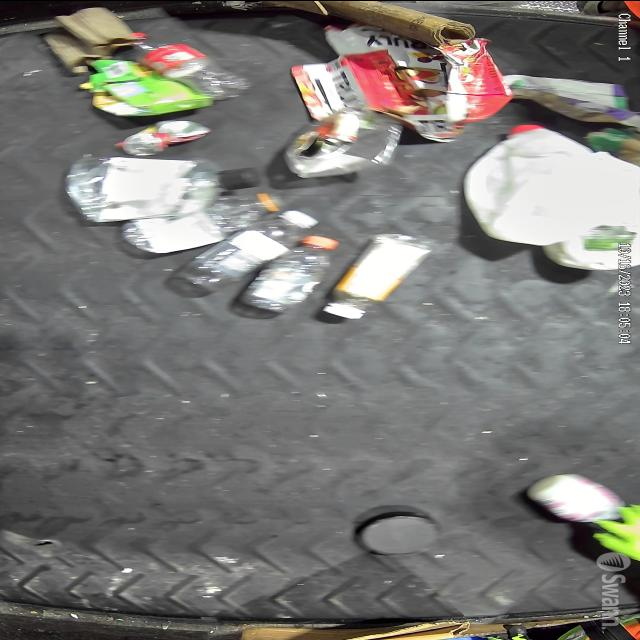can: (120, 118, 216, 156)
milk_jug: (461, 123, 604, 245), (540, 150, 640, 270)
non_white_jug: (290, 22, 512, 142)
plastic_bottle: (64, 154, 264, 222), (178, 210, 322, 292), (120, 192, 286, 254), (322, 232, 432, 319), (128, 31, 255, 100), (238, 234, 340, 314)
